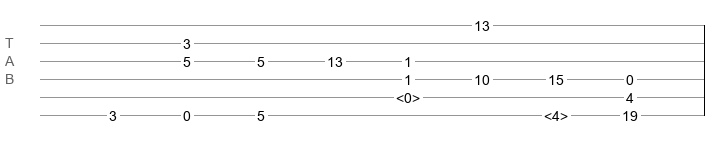0: (183, 108, 191, 118), (626, 72, 634, 82)
1: (404, 72, 412, 82), (404, 54, 412, 64)
10: (474, 72, 490, 82)
13: (327, 54, 343, 64), (474, 18, 490, 28)
15: (548, 72, 564, 82)
19: (622, 108, 638, 118)
3: (109, 108, 117, 118), (183, 36, 191, 46)
4: (626, 90, 634, 100)
5: (183, 54, 191, 64), (257, 54, 265, 64), (257, 108, 265, 118)
harmonic: (396, 90, 420, 100), (544, 108, 568, 118)
